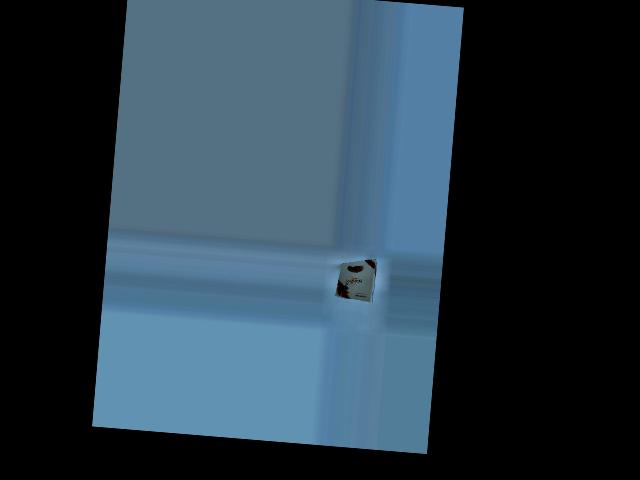chocolate: (334, 254, 385, 302)
